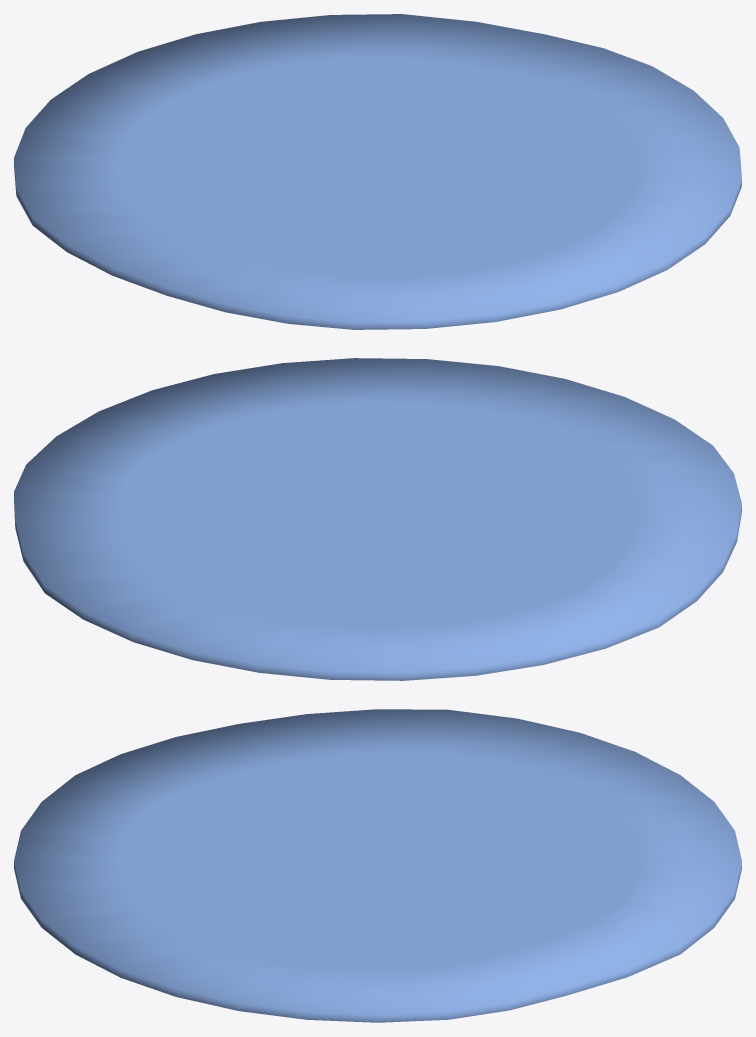
The model's file is props_carpet_rounded.fbx.
The picture shows the model from 3 angles, top to bottom: view 1: azimuth 30°, elevation 25°; view 2: azimuth 150°, elevation 25°; view 3: azimuth 270°, elevation 25°; orthographic projection. The views are drawn at different scales.
Visible parts, largest first — view 1: Cylinder; view 2: Cylinder; view 3: Cylinder.
Boxes of the visible parts, bbox=[...] form: Cylinder: bbox=[14, 14, 741, 329]; Cylinder: bbox=[14, 358, 741, 680]; Cylinder: bbox=[14, 709, 741, 1022].
Bounding box in the file's own units: 543 × 7.37 × 547.
